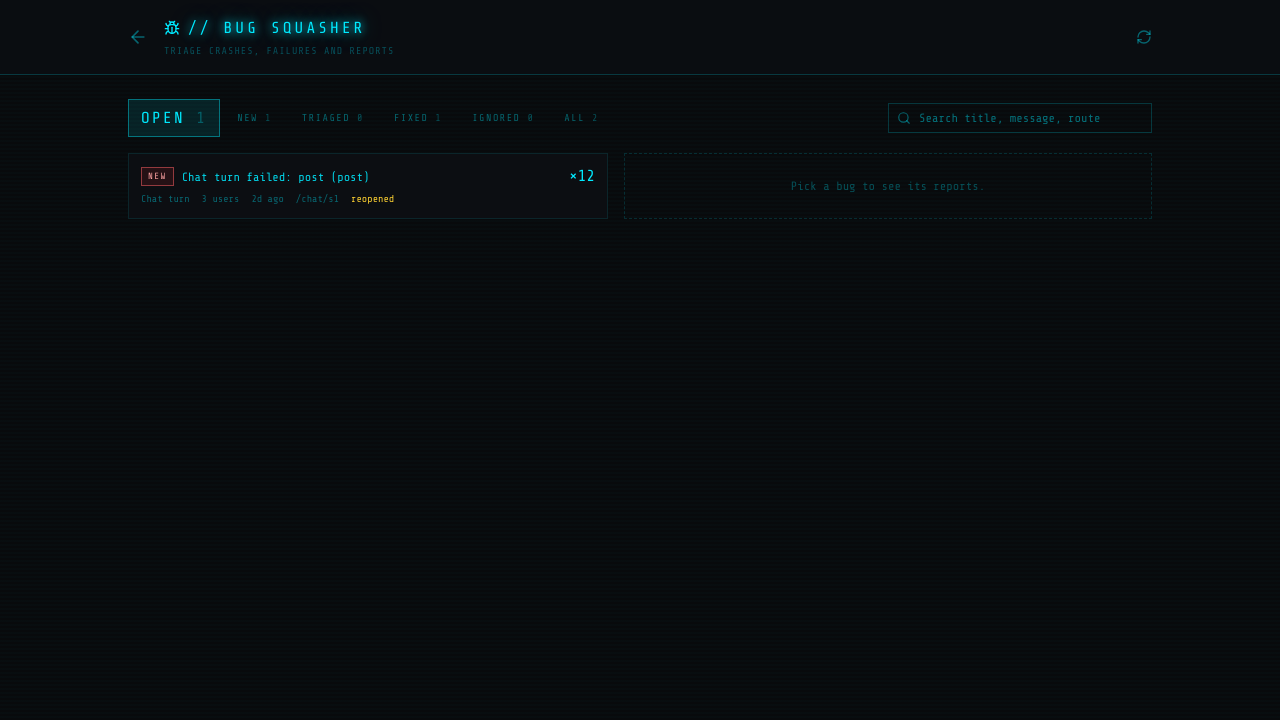
Test: BugSquasher triage page › lists grouped bugs, filters by status, and marks one fixed
Later steps or results of the test are not shown.
Expected: the text "Chat turn failed: post (post)" is shown, 182,168 -> 370,184
Expected: the text "Old crash" is not shown
Click the tab "Fixed 1".
click(418, 118)  # box 381,99 -> 455,137
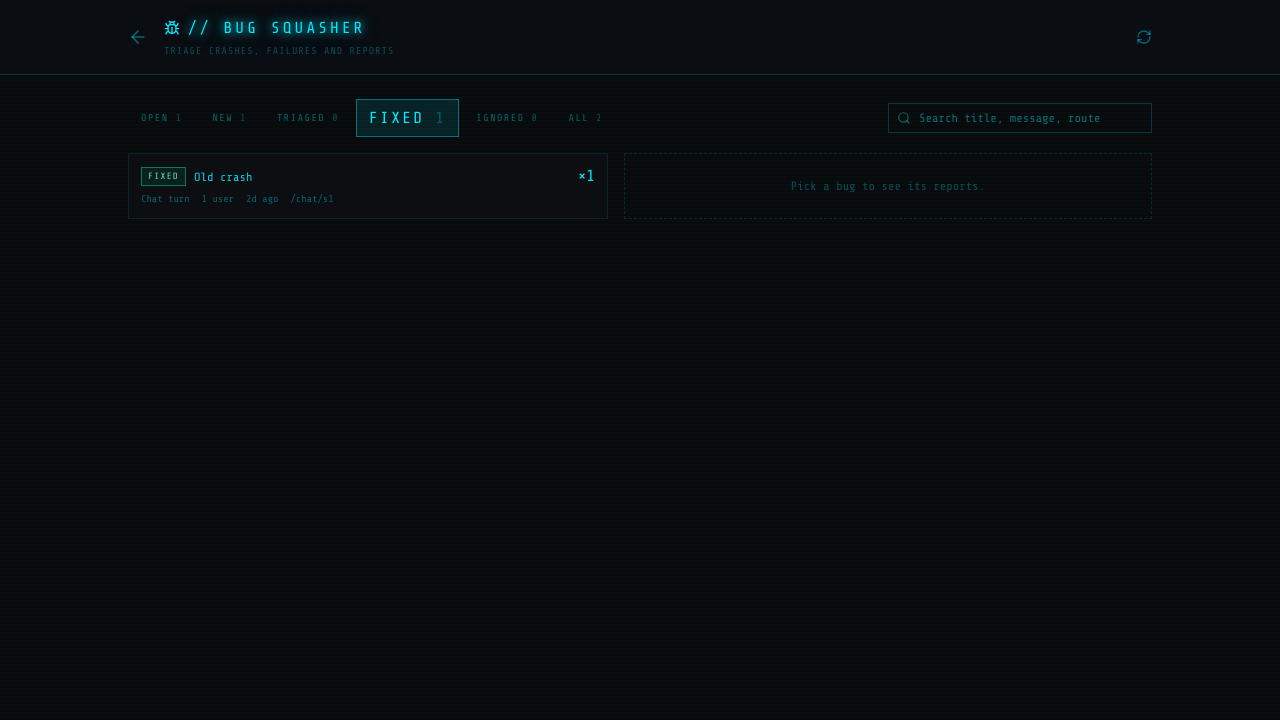
Result: the text "Old crash" is shown at 194,168 -> 252,184
Click the tab "Open 1".
click(162, 118)  # box 128,99 -> 195,137
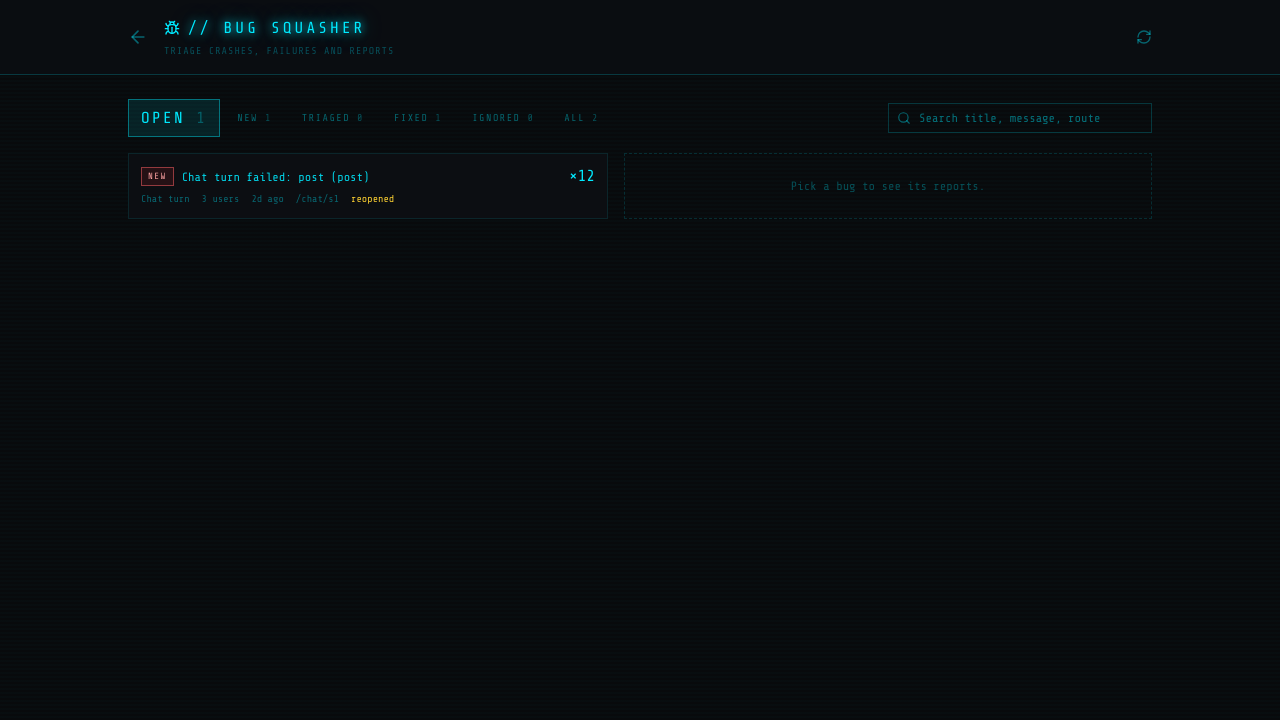
Click the text "Chat turn failed: post (post)".
click(276, 176)  # box 182,168 -> 370,184
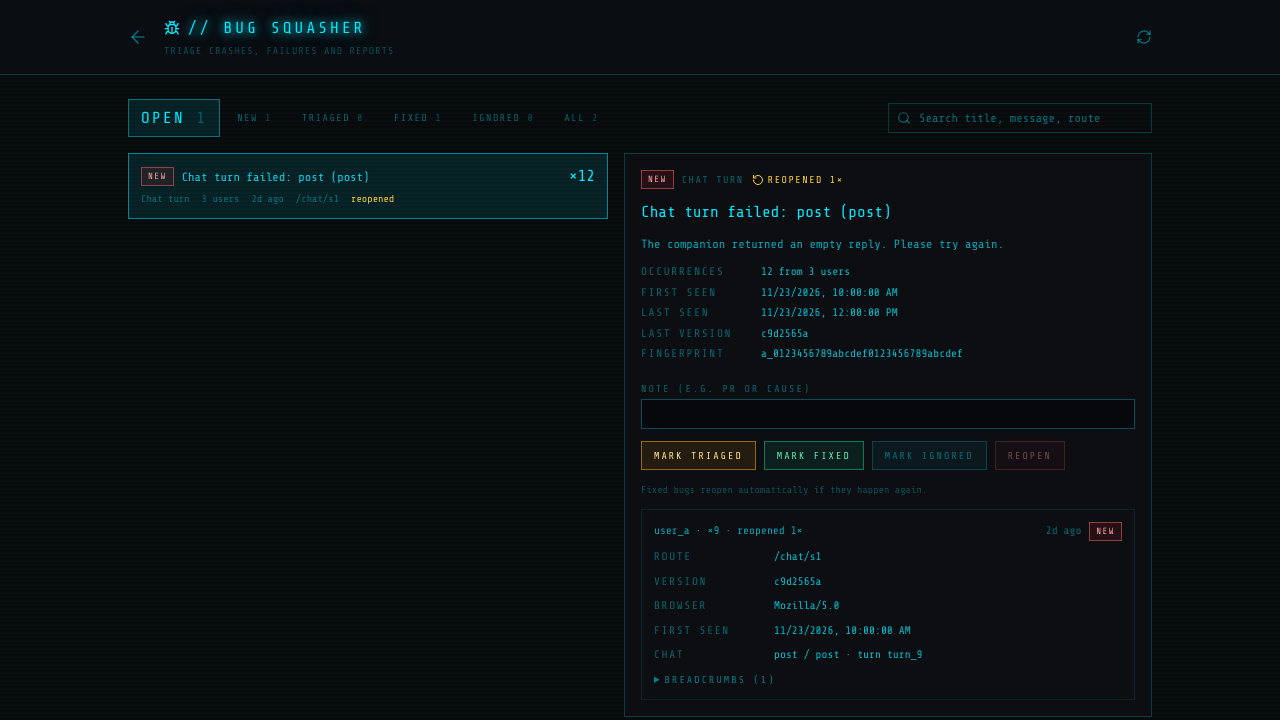
Result: the element with test id "bug-group-detail" shows "12 from 3 users" at 761,265 -> 850,278
Result: the list item with test id "bug-report-row" shows "user_a" at 654,524 -> 690,537
Result: the text "post / post · turn turn_9" is shown at 774,648 -> 922,661
